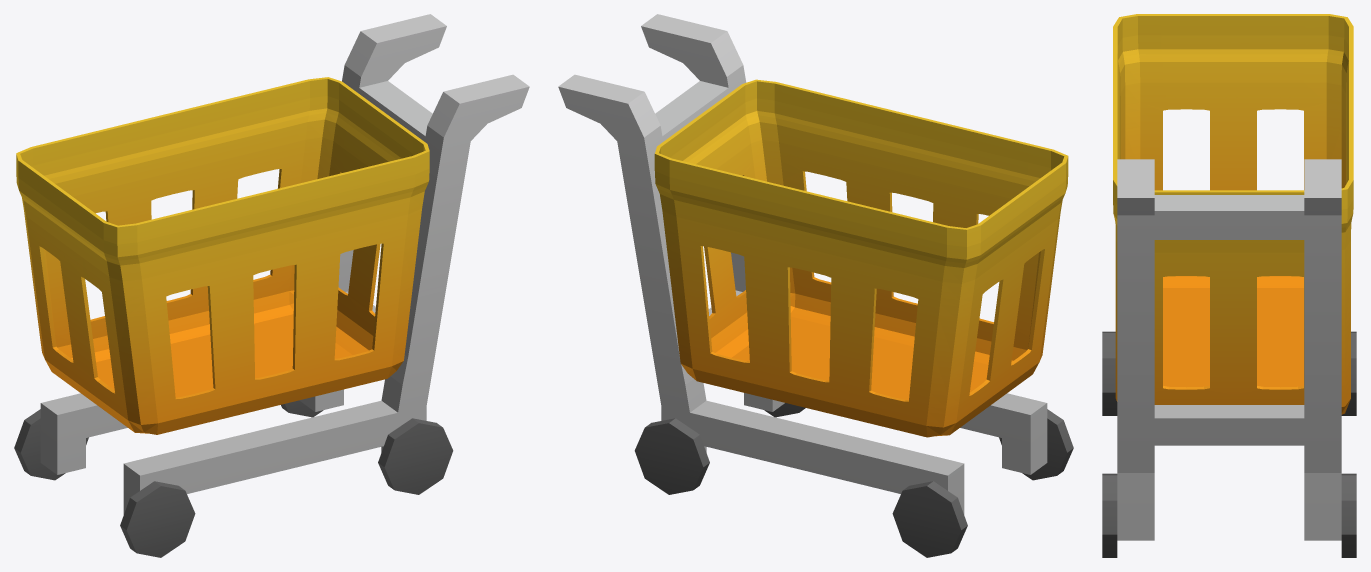
The model's file is cart_orange.fbx.
The picture shows the model from 3 angles, left to right: view 1: azimuth 30°, elevation 25°; view 2: azimuth 150°, elevation 25°; view 3: azimuth 270°, elevation 25°; orthographic projection. The views are drawn at different scales.
Visible parts, largest first — view 1: cart_orange; view 2: cart_orange; view 3: cart_orange.
Boxes of the visible parts, <box> form: cart_orange: <box>14,14,529,557</box>; cart_orange: <box>558,14,1073,557</box>; cart_orange: <box>1102,14,1356,557</box>.
Bounding box in the file's own units: 728 × 625 × 340.
